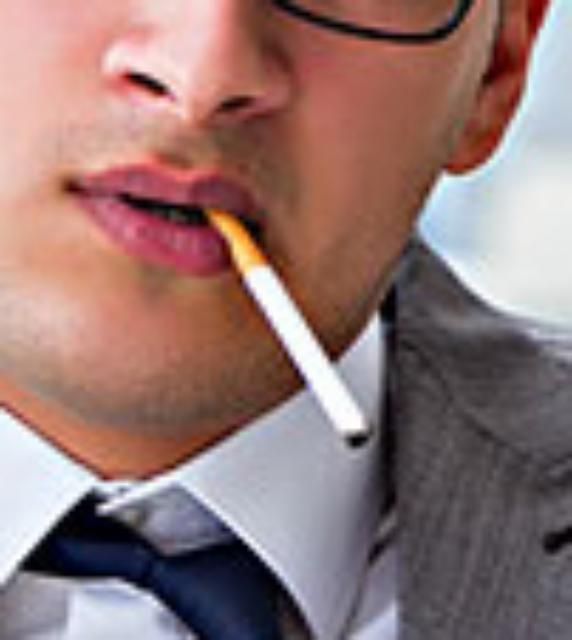Smoking: (199, 192, 385, 442)
